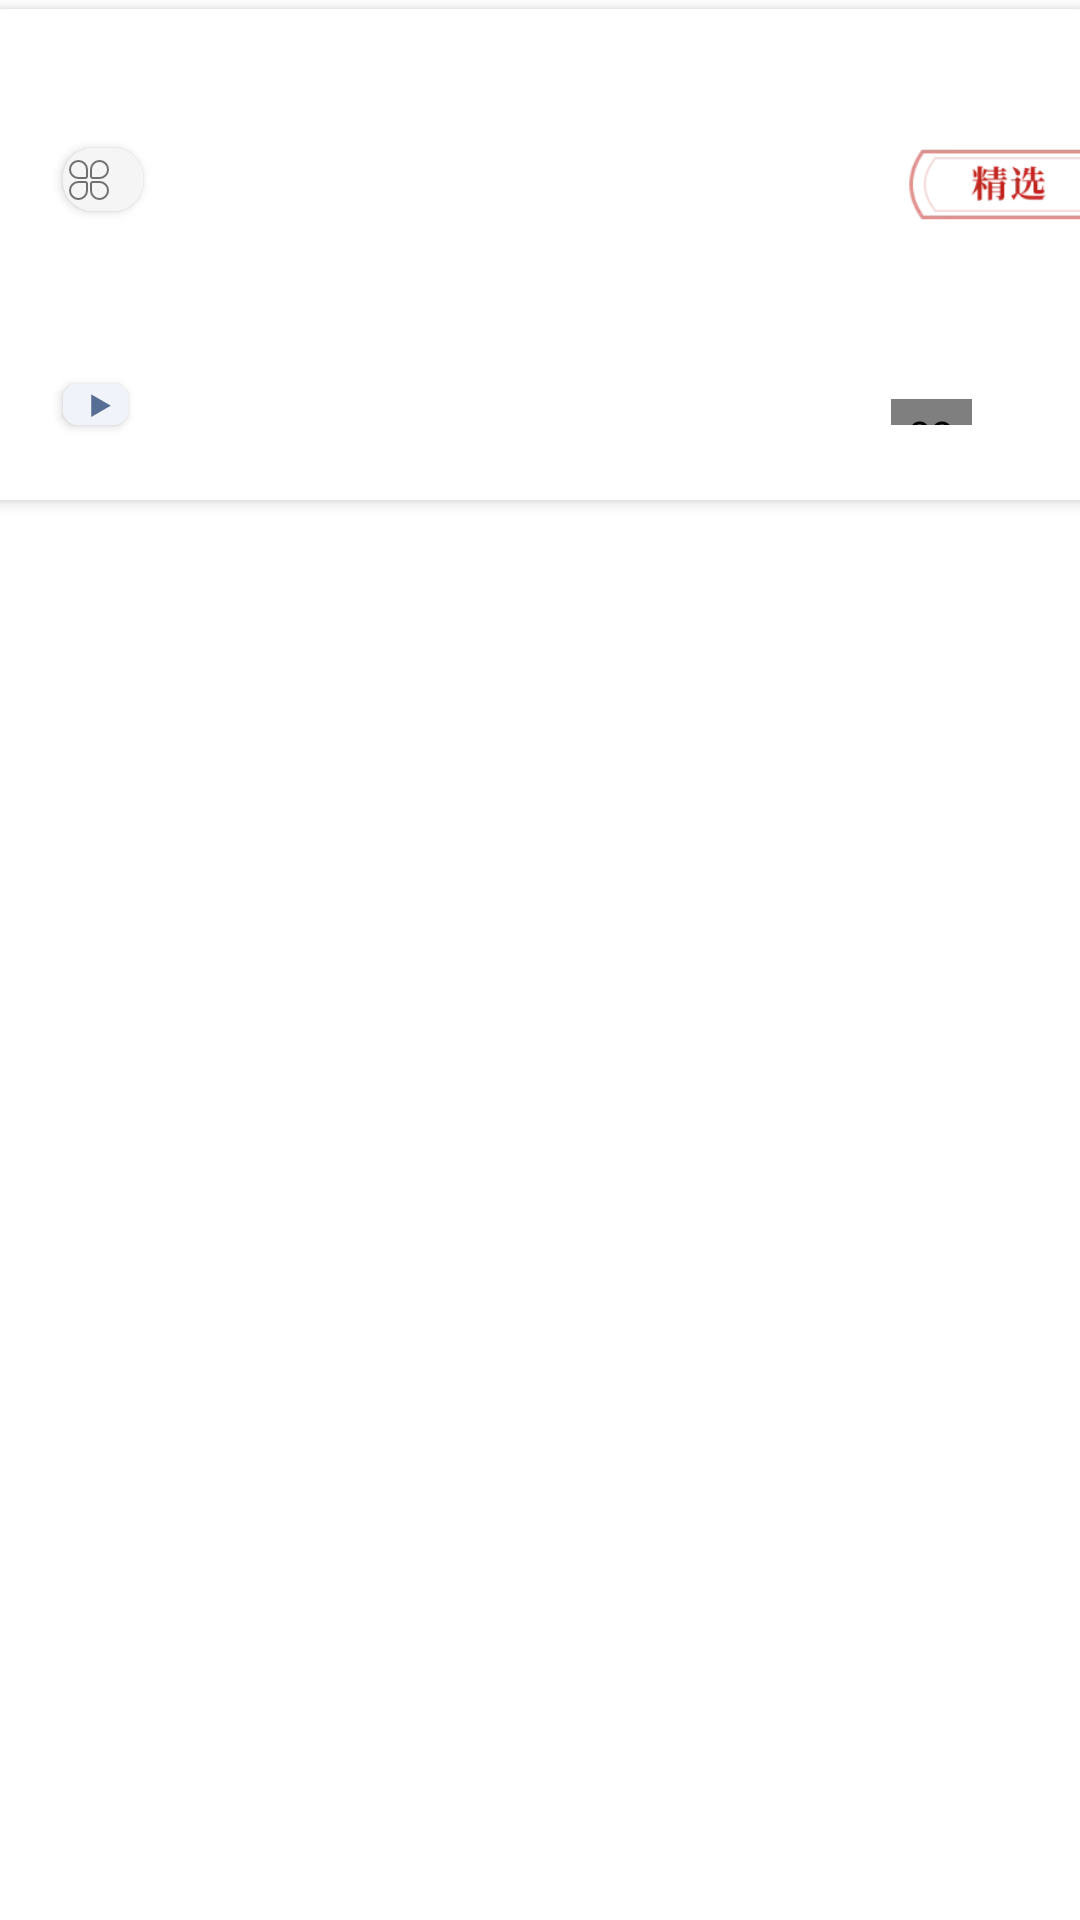

Named icons in this screenshot (1080 x 1920) and their centers, (x=x, y=y):
fenlei: (x=89, y=180)
